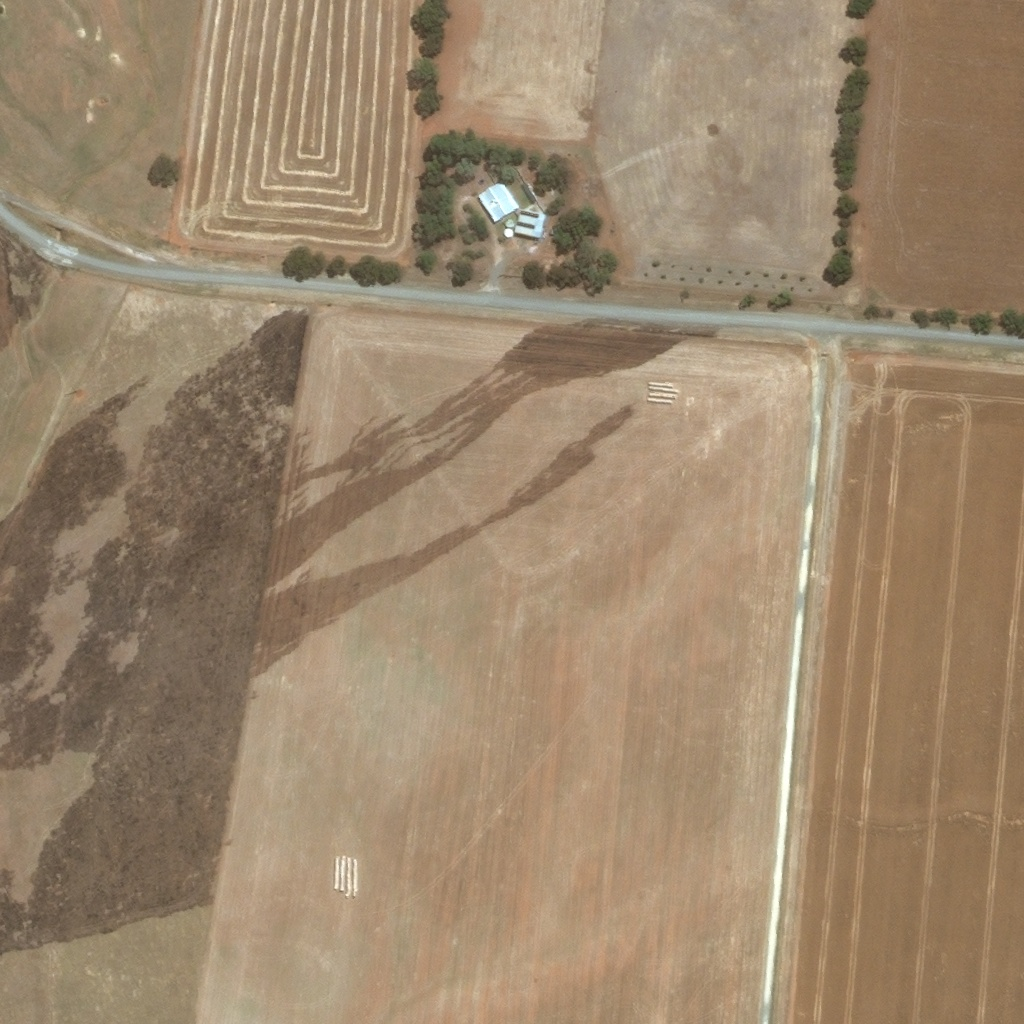0 no-damage: (478, 179, 519, 222), (515, 203, 545, 237), (506, 218, 515, 227)
